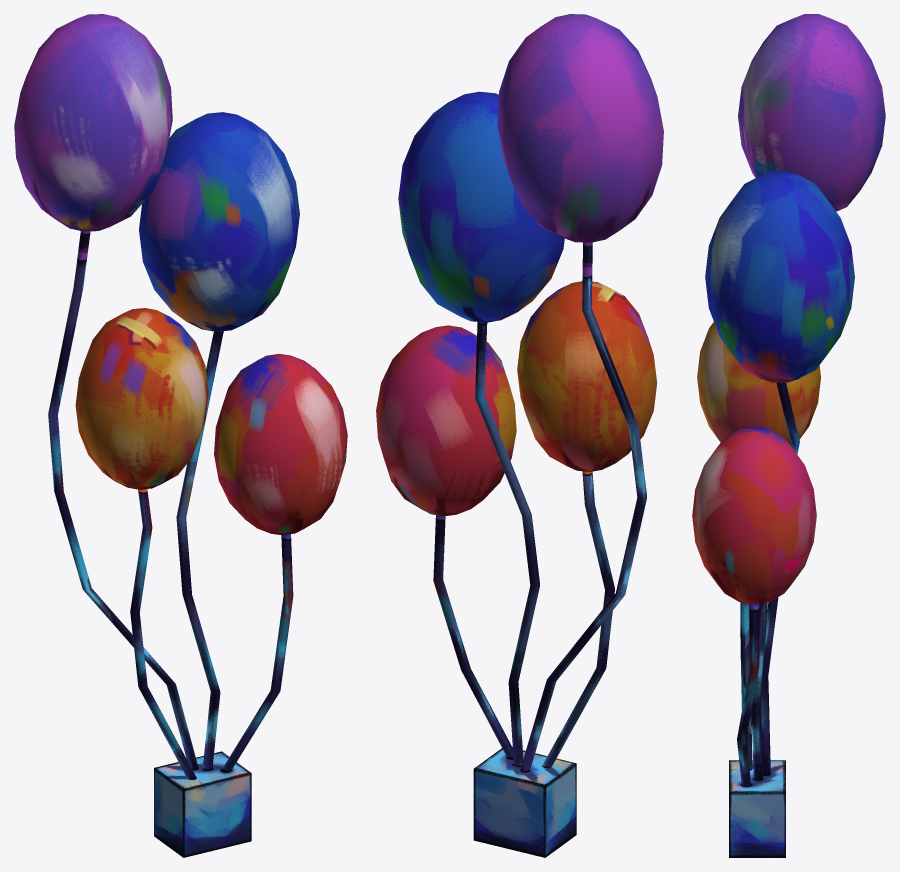
File: four Balloons.glb
The picture shows the model from 3 angles, left to right: view 1: azimuth 30°, elevation 25°; view 2: azimuth 150°, elevation 25°; view 3: azimuth 270°, elevation 25°; orthographic projection. The views are drawn at different scales.
Parts seen in each view (by area): view 1: Balloons1_4vers; view 2: Balloons1_4vers; view 3: Balloons1_4vers.
Part boxes in pixels (x1=…): Balloons1_4vers: x1=14, y1=14, x2=347, y2=857; Balloons1_4vers: x1=376, y1=14, x2=663, y2=857; Balloons1_4vers: x1=692, y1=14, x2=885, y2=857.
Size of the model in its own units: 3.82 by 10.6 by 2.36.
Materials: 1 (1 with a texture image).
